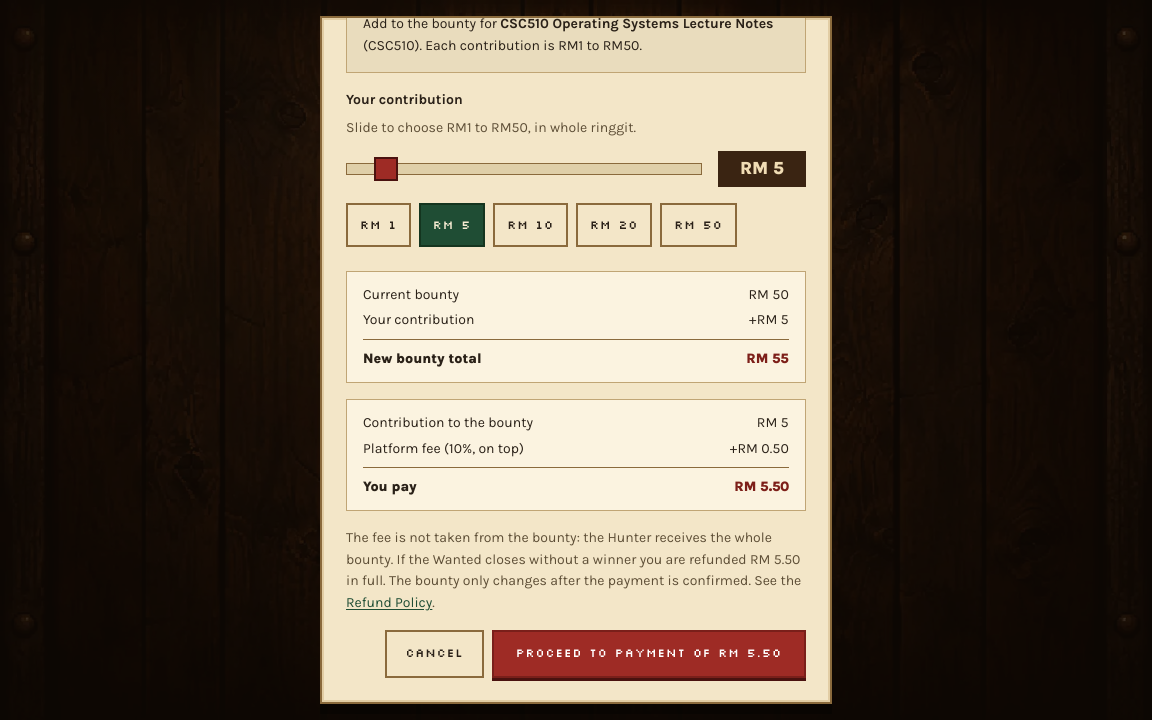
Scenario: BackWantedModal › treats an unreachable contribution endpoint as not prepared, not as a charge
(page scrolled)
Click the button "Proceed to payment of RM 5.50".
click(649, 654)  # box top-left (492, 630), bottom-right (806, 678)
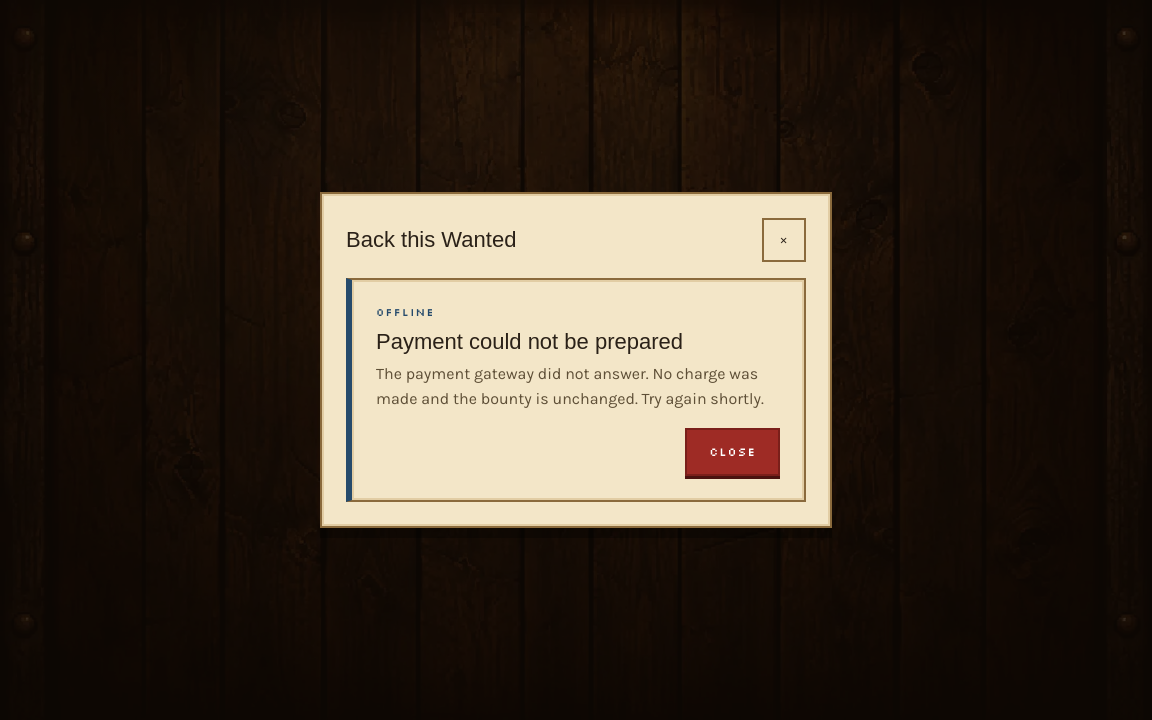
Expected: the heading "Payment could not be prepared" is shown, top-left (376, 329), bottom-right (683, 354)
Expected: the text "No charge was made" is shown, top-left (376, 364), bottom-right (764, 408)
